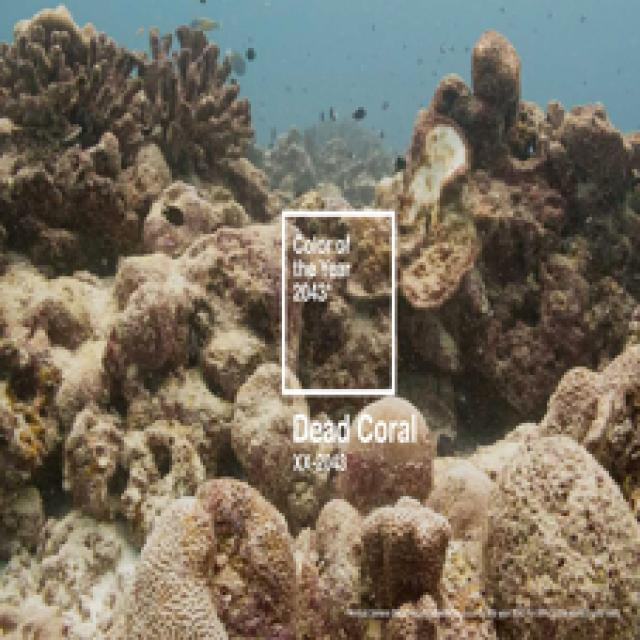Dead Coral: (401, 23, 614, 326), (34, 227, 234, 453), (54, 468, 311, 640), (473, 398, 640, 609), (0, 24, 146, 234)
